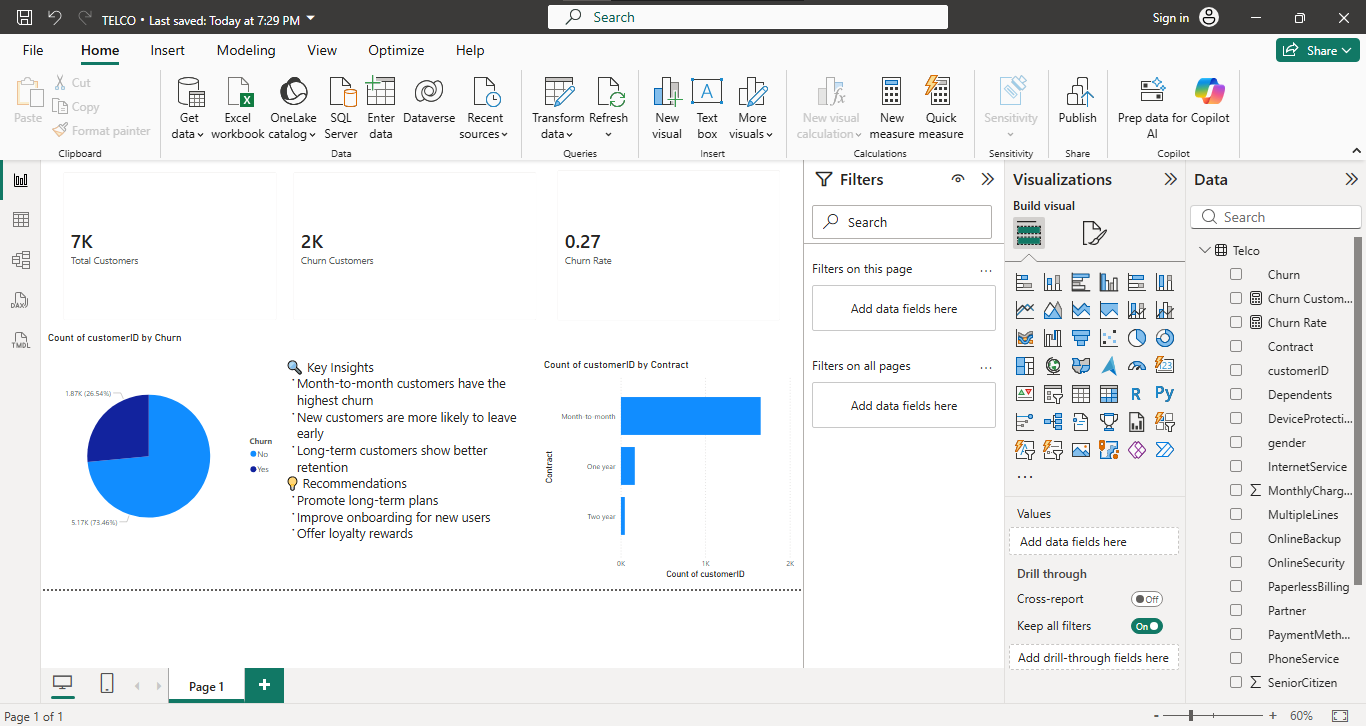

Layout of this report page (visuals, bound fields, positions):
{"tool":"powerbi","page":{"name":"Page 1","canvas":[1280,720],"ordinal":0},"visuals":[{"type":"barChart","fields":{"Category":["WA_Fn-UseC_-Telco-Customer-Churn.Contract"],"Y":["CountNonNull(WA_Fn-UseC_-Telco-Customer-Churn.customerID)"]},"box":[839.9,332.6,430,376.3],"z":0},{"type":"pieChart","fields":{"Category":["WA_Fn-UseC_-Telco-Customer-Churn.Churn"],"Y":["CountNonNull(WA_Fn-UseC_-Telco-Customer-Churn.customerID)"]},"box":[6.7,287.2,406.5,401.5],"z":1},{"type":"cardVisual","fields":{"Data":["Telco.Churn Rate"]},"box":[850,0,409.9,287.2],"z":5},{"type":"cardVisual","fields":{"Data":["Telco.Churn Customers"]},"box":[406.5,3.4,443.5,283.9],"z":6},{"type":"cardVisual","fields":{"Data":["Telco.Total Customers"]},"box":[20.2,3.4,393.1,283.9],"z":7},{"type":"textbox","box":[406.5,327.6,430,361.2],"z":8}]}

Visuals, with their boxes on the page's 1280x720 design canvas (x1, y1, x2, y2). These are canvas units, not pixel positions in the 1366x726 screenshot, which may show the page scaled, cropped or inside an application window:
barChart - WA_Fn-UseC_-Telco-Customer-Churn.Contract x CountNonNull(WA_Fn-UseC_-Telco-Customer-Churn.customerID): pyautogui.locateOnScreen(840, 333, 1270, 709)
pieChart - WA_Fn-UseC_-Telco-Customer-Churn.Churn x CountNonNull(WA_Fn-UseC_-Telco-Customer-Churn.customerID): pyautogui.locateOnScreen(7, 287, 413, 689)
cardVisual - Telco.Churn Rate: pyautogui.locateOnScreen(850, 0, 1260, 287)
cardVisual - Telco.Churn Customers: pyautogui.locateOnScreen(406, 3, 850, 287)
cardVisual - Telco.Total Customers: pyautogui.locateOnScreen(20, 3, 413, 287)
textbox: pyautogui.locateOnScreen(406, 328, 836, 689)
